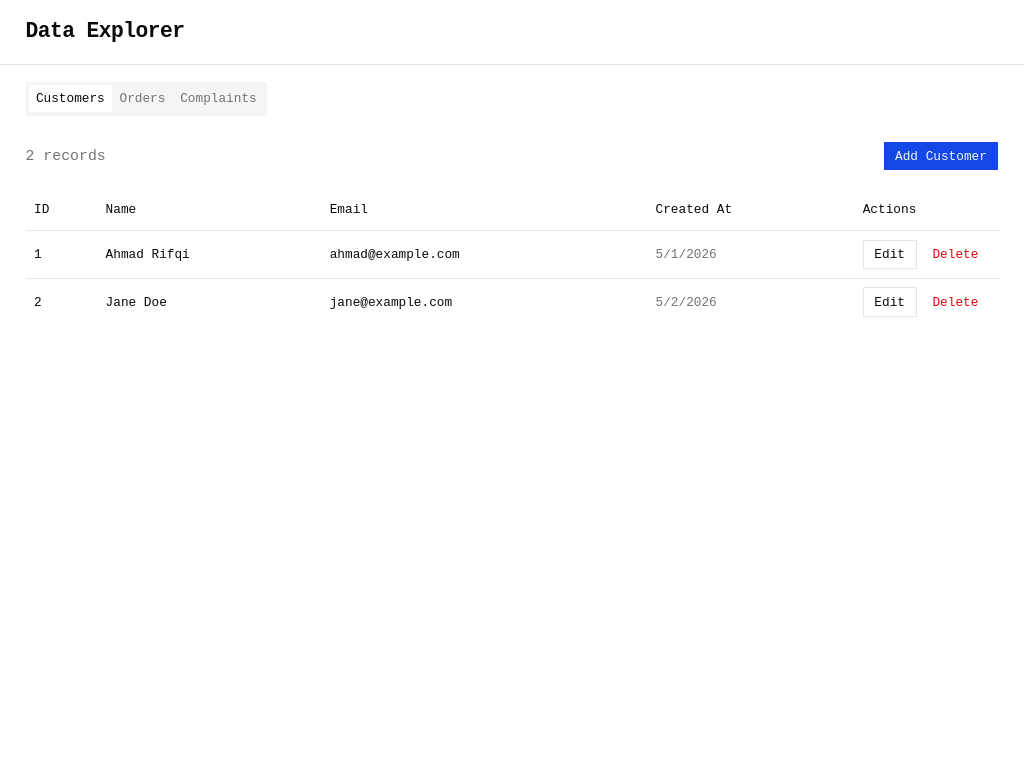
Scenario: DataPage Customers CRUD › edits a customer via dialog and refreshes the table
Expected: the text "Ahmad Rifqi" is shown, [97,230,321,278]
Click the button "Edit" in the row of "Ahmad Rifqi".
click(890, 254)  # box [863,240,917,269]
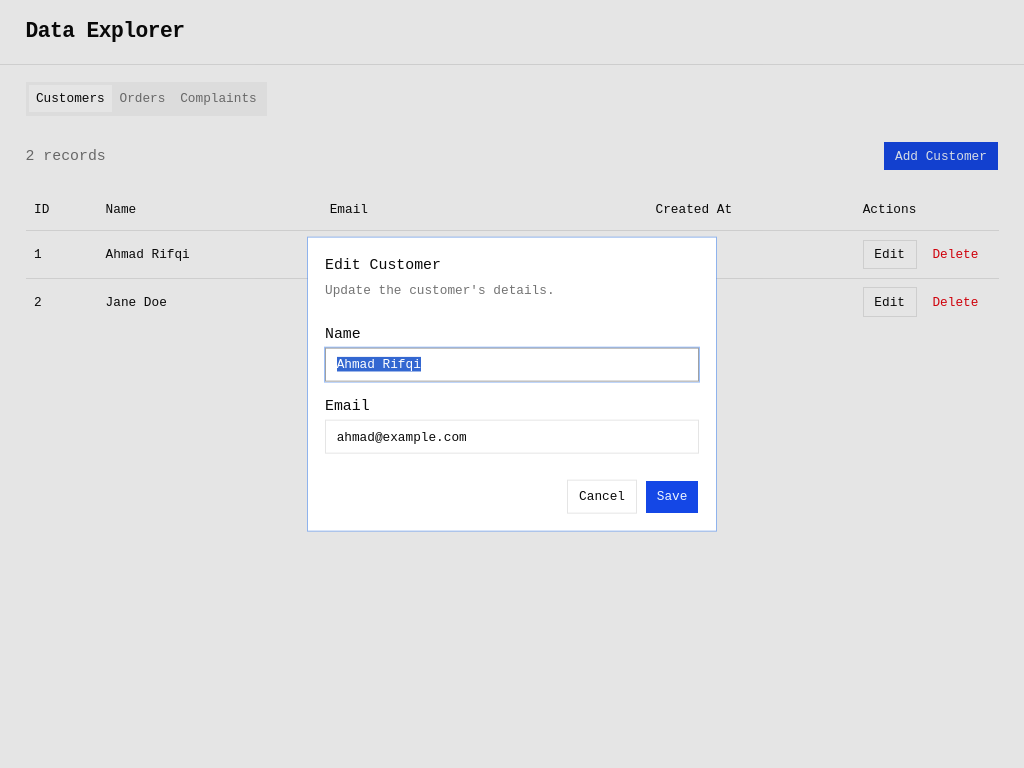
Replace the text in the field labelled "Name" with "Ahmad Updated" at (512, 365), box [325,348,699,382]
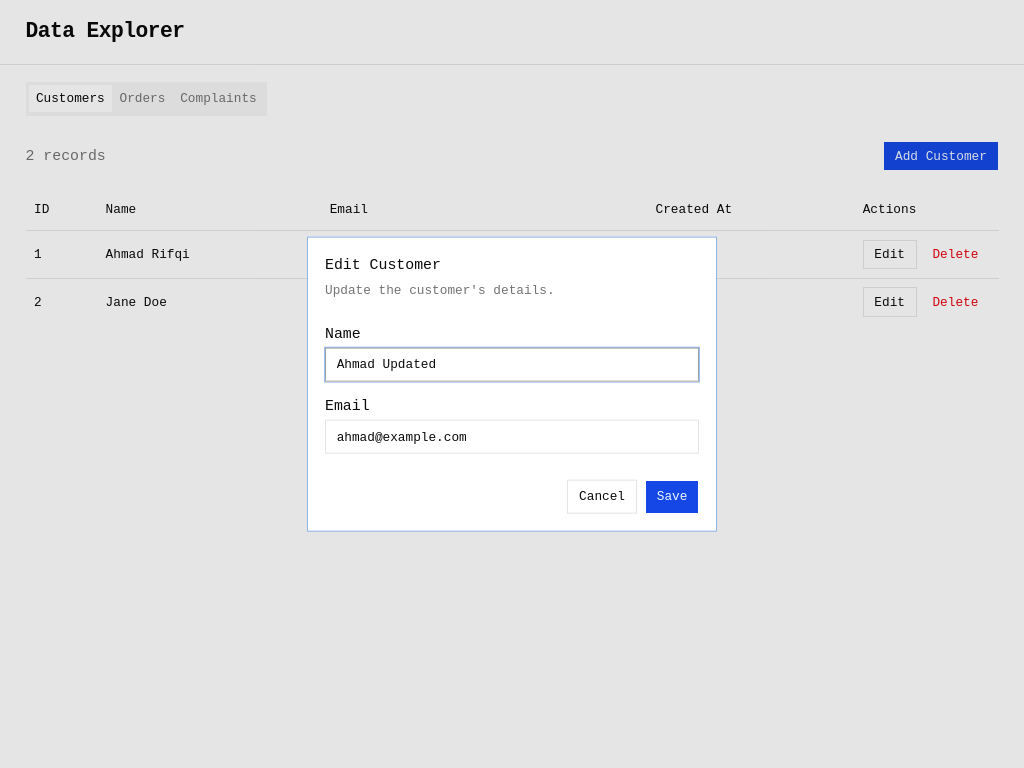
Click the button "Save".
click(672, 496)  # box [645,479,699,513]
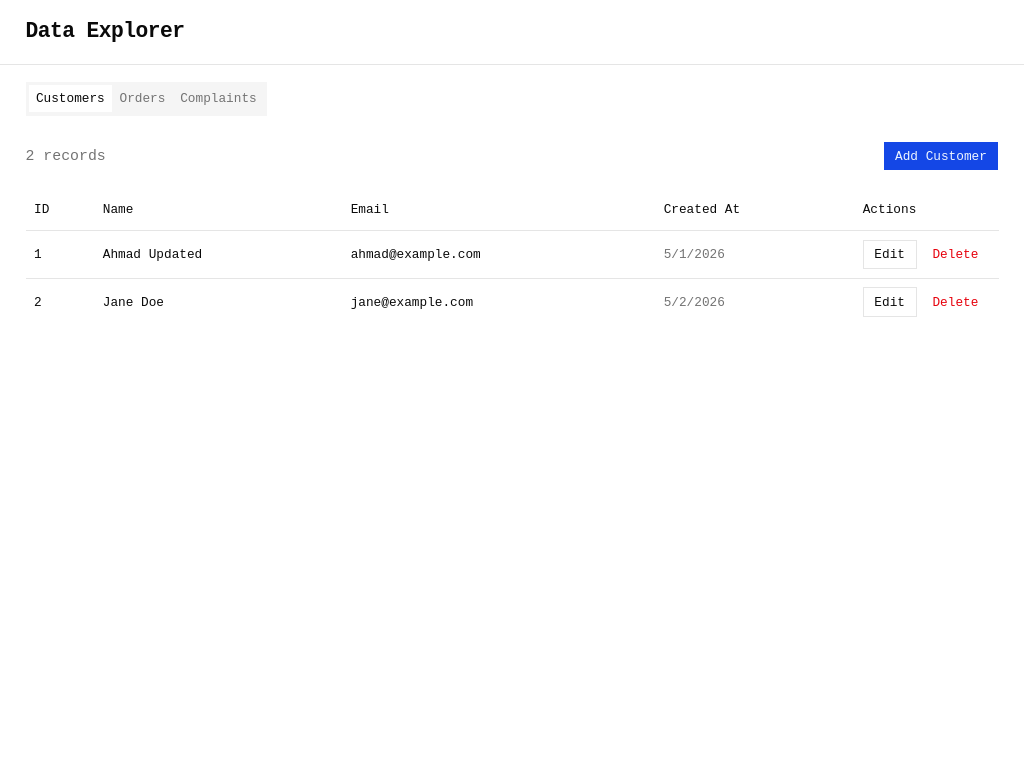
Result: the text "Ahmad Updated" is shown at [94,230,342,278]
Result: the text "Ahmad Rifqi" is gone
